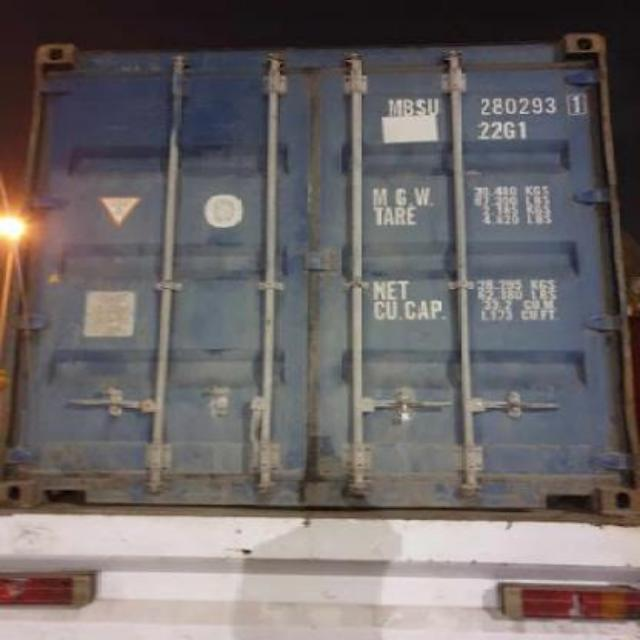0: (504, 95, 518, 116)
1: (572, 94, 582, 116)
2: (478, 95, 492, 118), (516, 94, 530, 116)
3: (544, 95, 558, 116)
8: (492, 95, 506, 116)
9: (530, 94, 544, 116)
B: (404, 97, 414, 117)
M: (384, 97, 404, 117)
S: (418, 97, 424, 115)
U: (426, 95, 442, 116)
